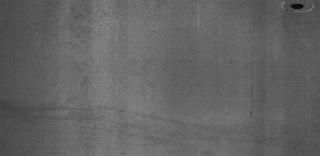punching hole: (290, 2, 304, 10)
silk spot: (45, 5, 122, 138), (133, 3, 200, 85)
